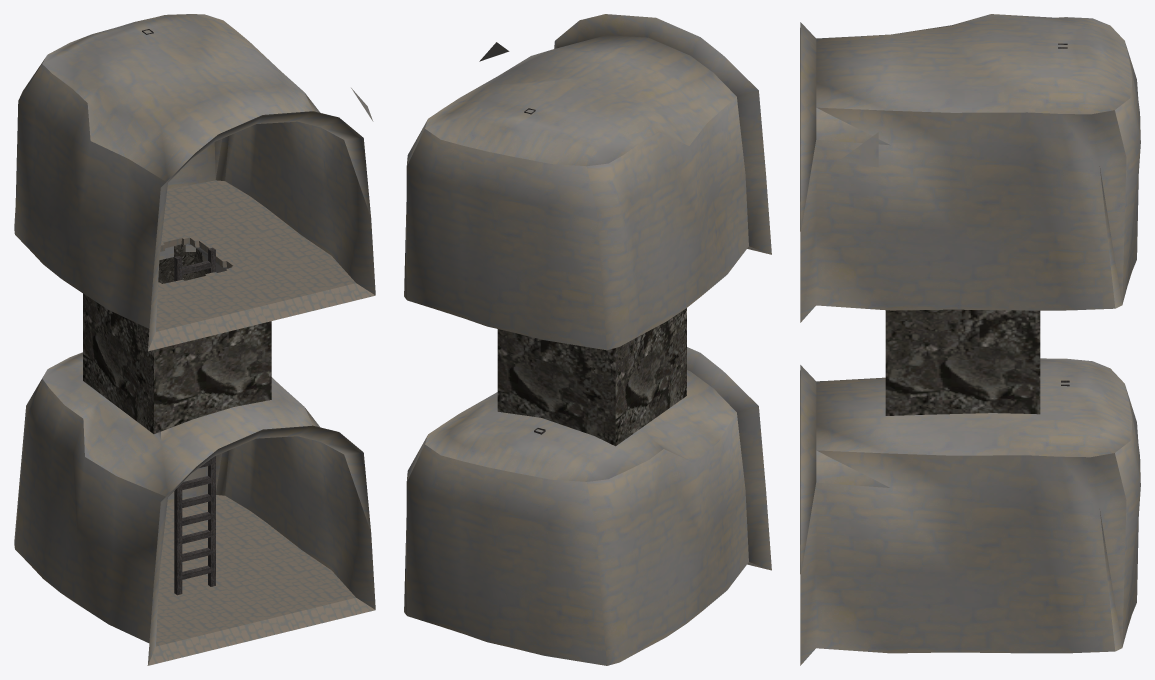
File: R_Tun11.glb
3 views of the same model, side by side, from view 1: azimuth 30°, elevation 25°; view 2: azimuth 150°, elevation 25°; view 3: azimuth 270°, elevation 25° (orthographic). The views are drawn at different scales.
Visible parts, largest first — view 1: _R_Tun11; view 2: _R_Tun11; view 3: _R_Tun11.
Boxes of the visible parts, <box> form: _R_Tun11: <box>14,14,375,665</box>; _R_Tun11: <box>404,14,771,665</box>; _R_Tun11: <box>800,14,1140,665</box>.
Bounding box in the file's own units: 5.13 × 9.97 × 5.41.
Materials: 5 (5 with a texture image).
